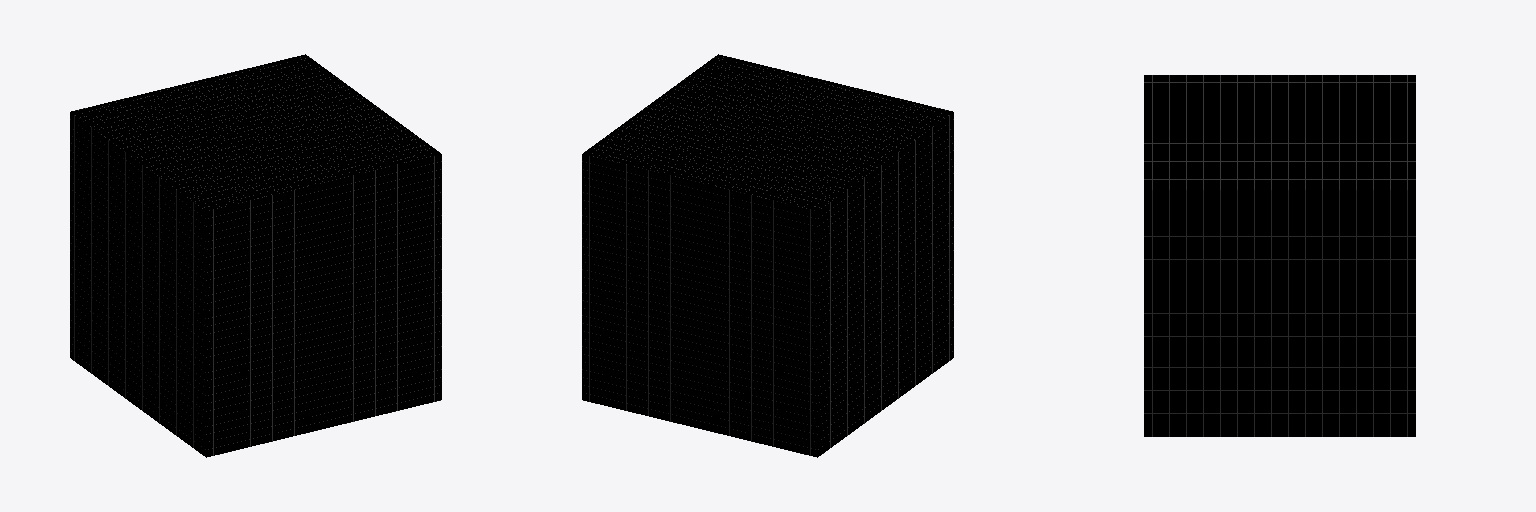
3 renders of one model, left to right at view 1: azimuth 30°, elevation 25°; view 2: azimuth 150°, elevation 25°; view 3: azimuth 270°, elevation 25°, orthographic.
Bounding box in the file's own units: 8 × 8 × 8.
Materials: 1 (1 with a texture image).